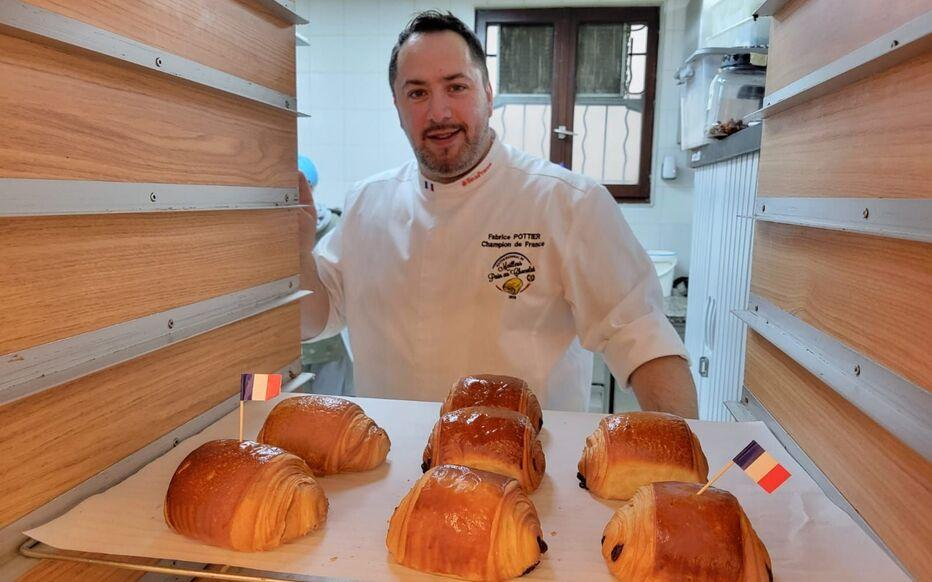pain au chocolat: (165, 433, 325, 558), (383, 466, 547, 582), (596, 485, 780, 582), (575, 401, 714, 499), (260, 395, 393, 475), (423, 409, 554, 481), (432, 372, 550, 427)
